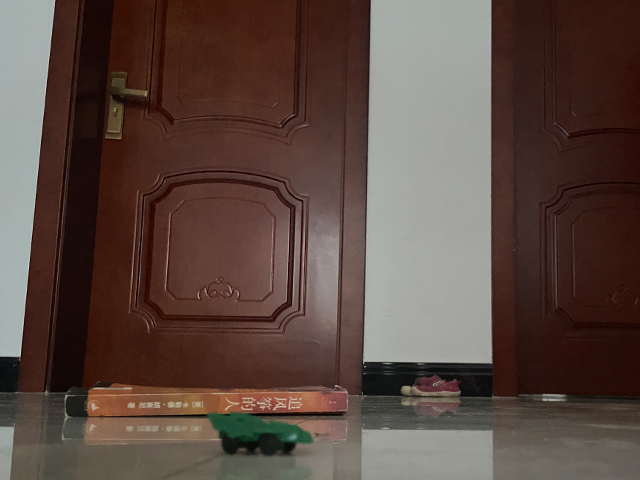book: (63, 381, 350, 419)
